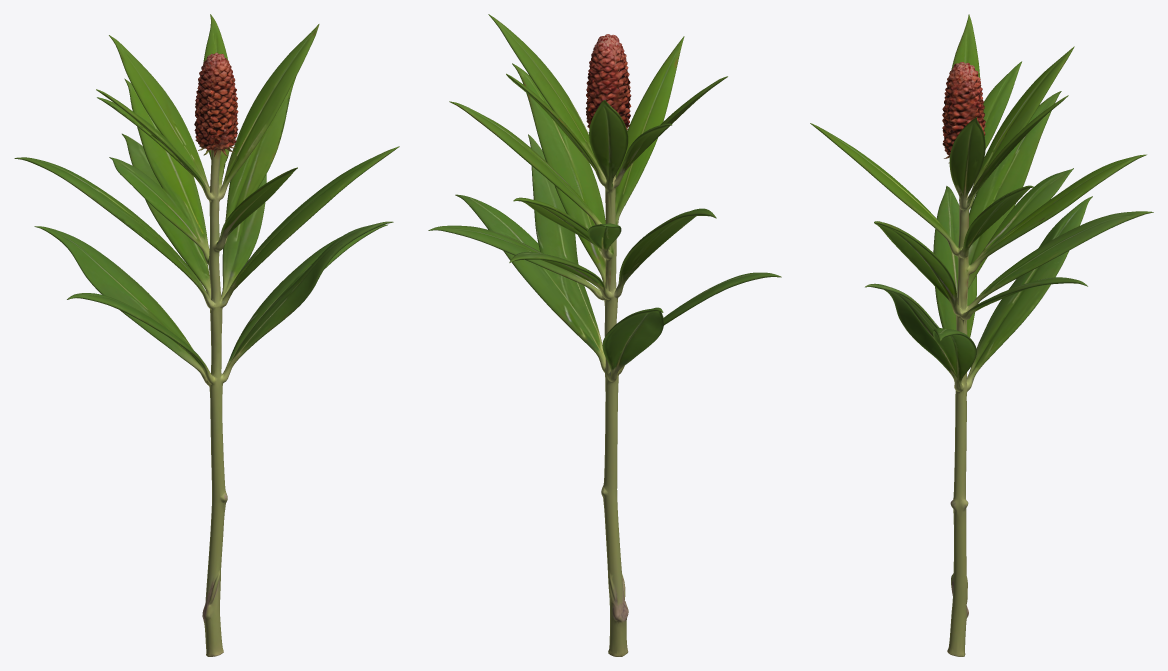
The picture shows the model from 3 angles, left to right: view 1: azimuth 30°, elevation 25°; view 2: azimuth 150°, elevation 25°; view 3: azimuth 270°, elevation 25°; orthographic projection. The views are drawn at different scales.
Parts seen in each view (by area): view 1: node_0; view 2: node_0; view 3: node_0.
Boxes of the visible parts, <box> form: node_0: <box>14,14,399,656</box>; node_0: <box>428,14,781,656</box>; node_0: <box>810,14,1153,656</box>.
Bounding box in the file's own units: 0.6286 × 1.12 × 0.5894.
Materials: 1 (1 with a texture image).
